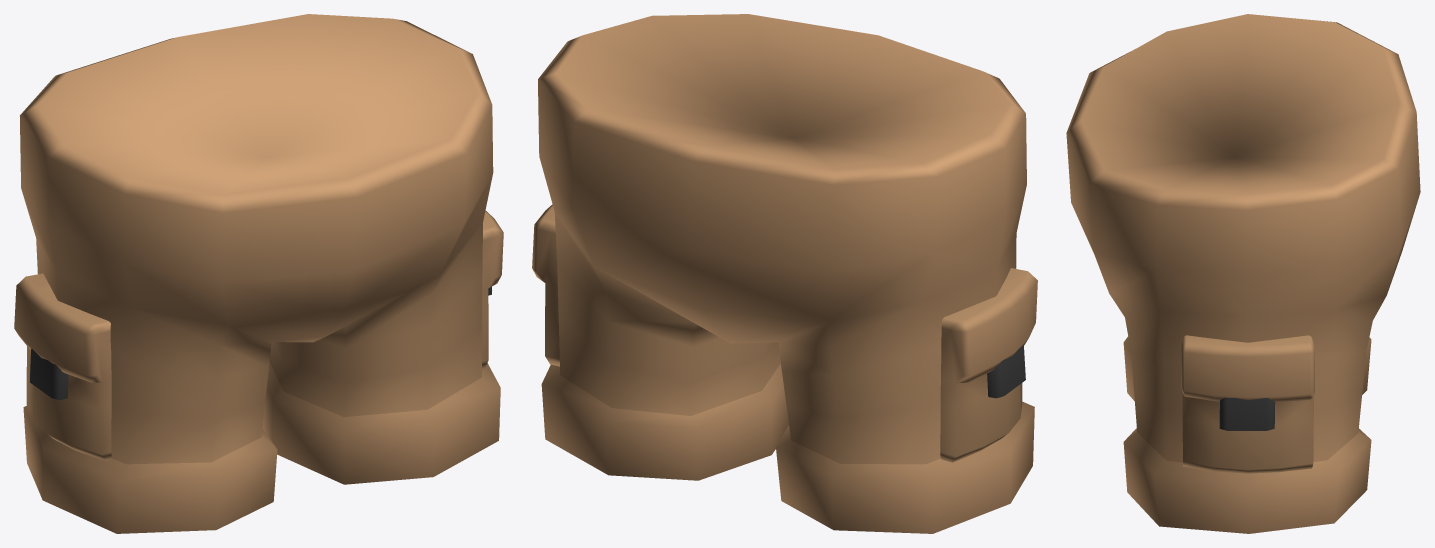
Rendered from Bottom_10.fbx.
3 renders of one model, left to right at view 1: azimuth 30°, elevation 25°; view 2: azimuth 150°, elevation 25°; view 3: azimuth 270°, elevation 25°, orthographic. The views are drawn at different scales.
Parts seen in each view (by area): view 1: Bottom_10; view 2: Bottom_10; view 3: Bottom_10.
Boxes of the visible parts, <box> form: Bottom_10: <box>14,14,503,533</box>; Bottom_10: <box>532,14,1037,533</box>; Bottom_10: <box>1066,14,1420,533</box>.
Bounding box in the file's own units: 40.16 × 32.12 × 29.68.
